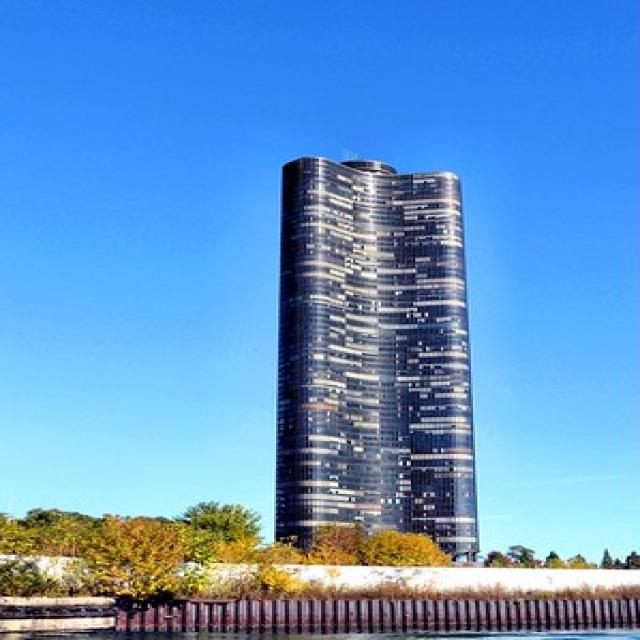building: (270, 149, 482, 568)
